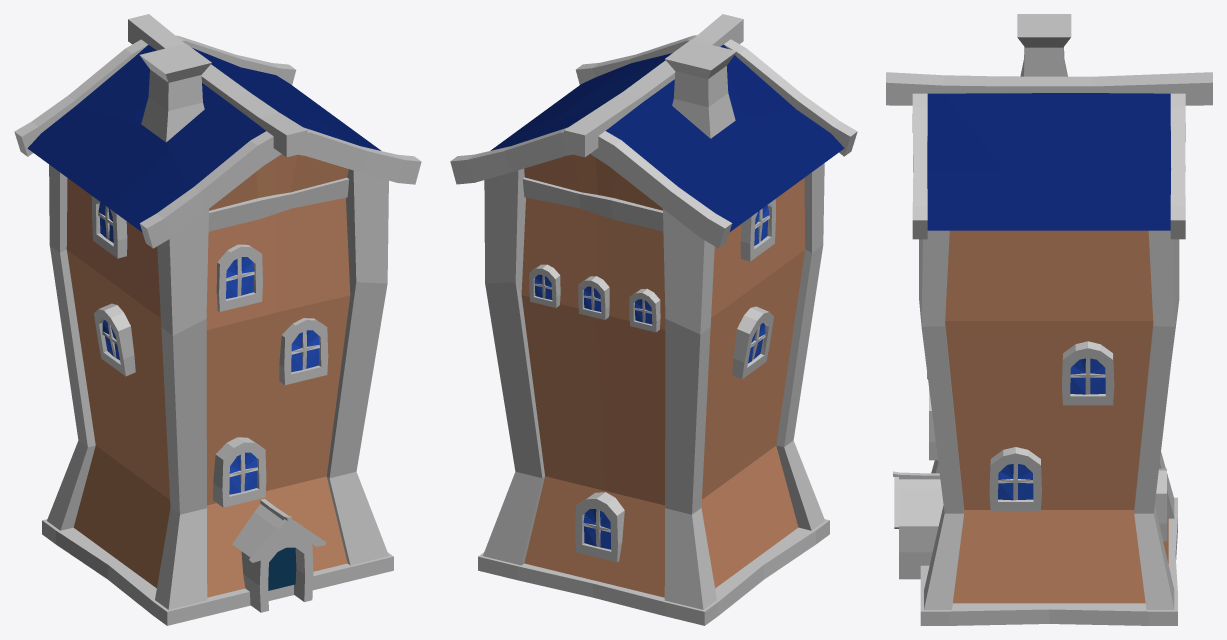
Rendered from LowPolyTowerHouse.obj.
3 views of the same model, side by side, from view 1: azimuth 30°, elevation 25°; view 2: azimuth 150°, elevation 25°; view 3: azimuth 270°, elevation 25° (orthographic). The views are drawn at different scales.
Visible parts, largest first — view 1: House.001_Cube.005, DoorFrame.001_Cube.009, Window1.007_Cube.019, Window1.003_Cube.015, Window1.002_Cube.014, Window1.001_Cube.013, Door.001_Cube.010; view 2: House.001_Cube.005, Window1.006_Cube.018, Window1.007_Cube.019; view 3: House.001_Cube.005, DoorFrame.001_Cube.009, Window1.004_Cube.016, Window1.005_Cube.017, Window1.006_Cube.018.
Boxes of the visible parts, left/top/right/bottom form: House.001_Cube.005: left=14, top=14, right=421, bottom=625; DoorFrame.001_Cube.009: left=232, top=499, right=326, bottom=612; Window1.007_Cube.019: left=92, top=196, right=135, bottom=376; Window1.003_Cube.015: left=213, top=437, right=266, bottom=507; Window1.002_Cube.014: left=279, top=318, right=328, bottom=385; Window1.001_Cube.013: left=216, top=244, right=262, bottom=311; Door.001_Cube.010: left=268, top=547, right=296, bottom=590; House.001_Cube.005: left=450, top=14, right=857, bottom=625; Window1.006_Cube.018: left=529, top=264, right=660, bottom=562; Window1.007_Cube.019: left=732, top=199, right=775, bottom=379; House.001_Cube.005: left=886, top=14, right=1212, bottom=625; DoorFrame.001_Cube.009: left=893, top=471, right=943, bottom=579; Window1.004_Cube.016: left=1062, top=341, right=1114, bottom=405; Window1.005_Cube.017: left=989, top=447, right=1041, bottom=510; Window1.006_Cube.018: left=1154, top=468, right=1167, bottom=541.
Bounding box in the file's own units: 13.47 × 23.73 × 13.48.
